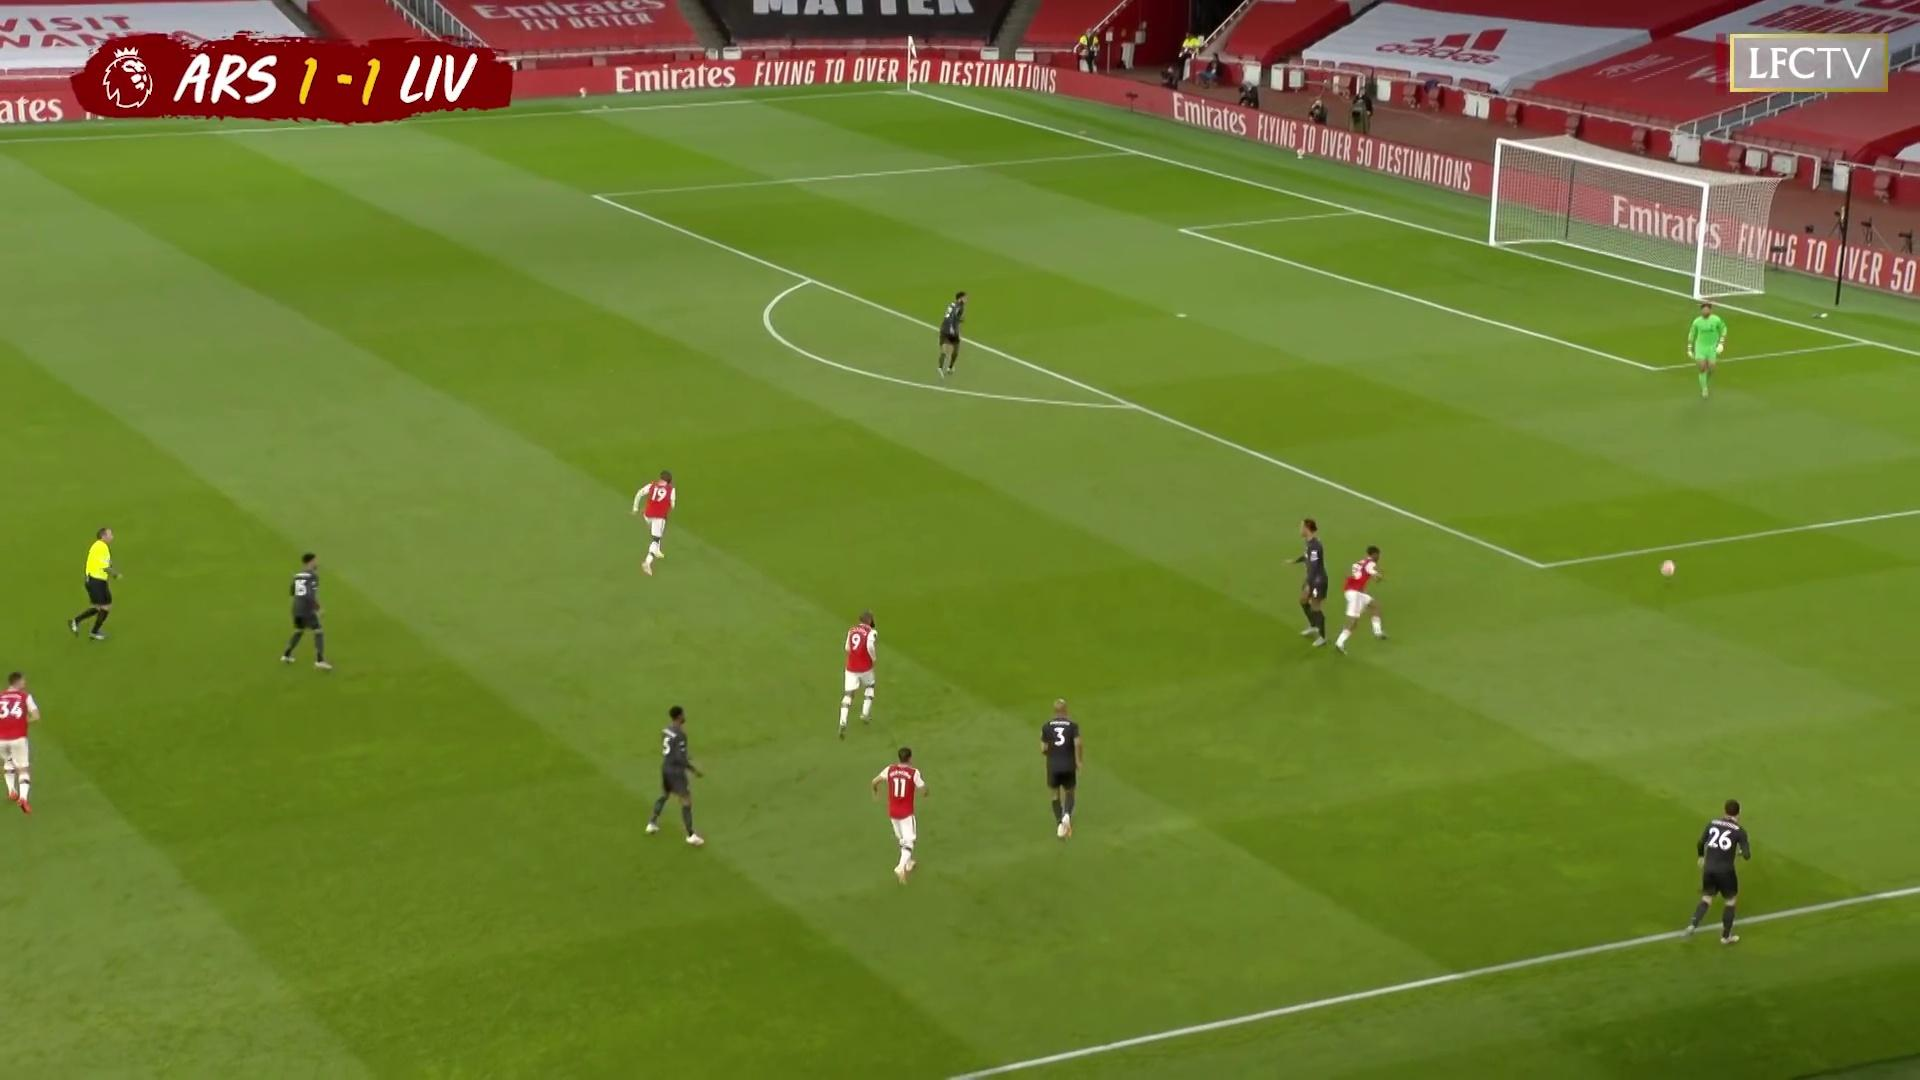ball: (1660, 559, 1679, 578)
